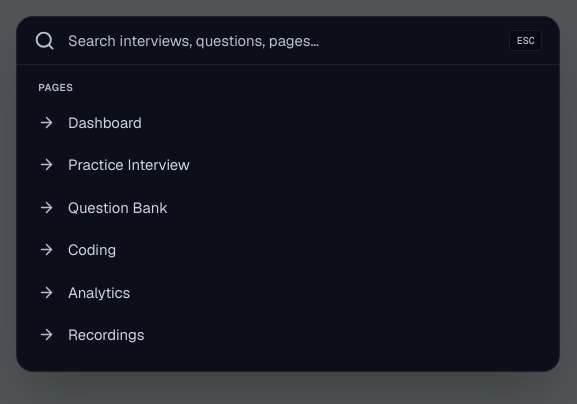
Test: SearchModal › does not route a Q&A result through coding based on a legacy category
The width and height of the screenshot is (577, 404).
Type "legacy" into the field with placeholder "Search interviews, questions, pages…" at x=282, y=41, box [68,30,496,51]
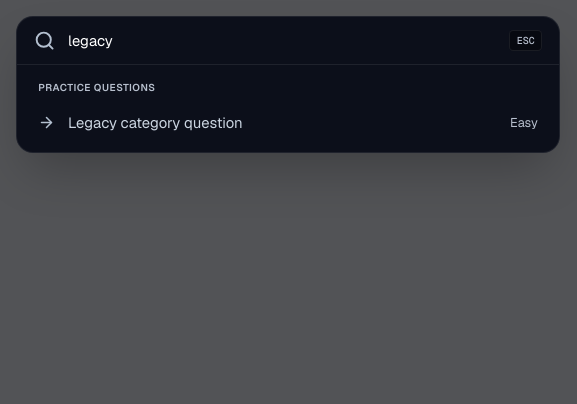
Now the text "Legacy category question" is shown, box [68,113,243,132]
